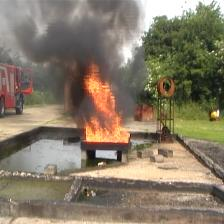fire: (83, 60, 130, 143)
